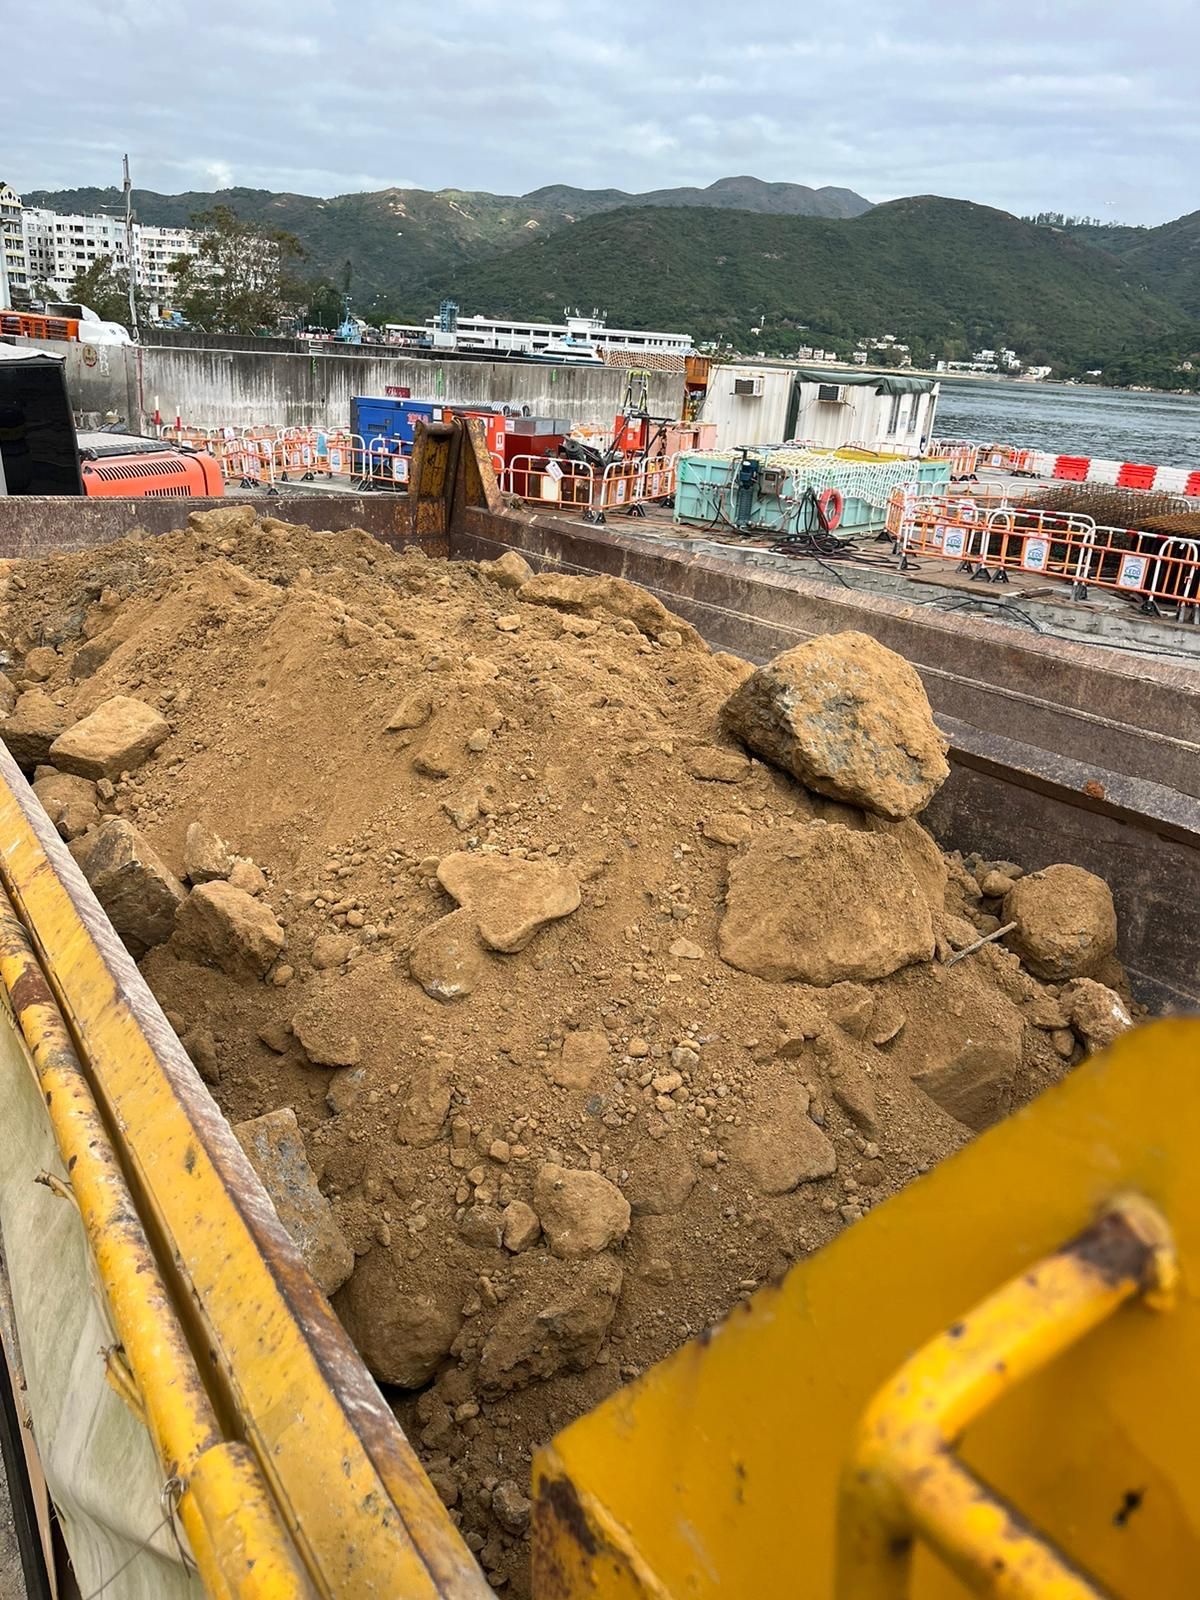dirt: (1, 500, 1145, 1595)
stone: (717, 627, 952, 819), (715, 817, 937, 984), (66, 815, 186, 952), (435, 847, 582, 953), (999, 860, 1118, 980), (174, 878, 286, 981), (46, 693, 170, 779), (531, 1161, 631, 1256)
